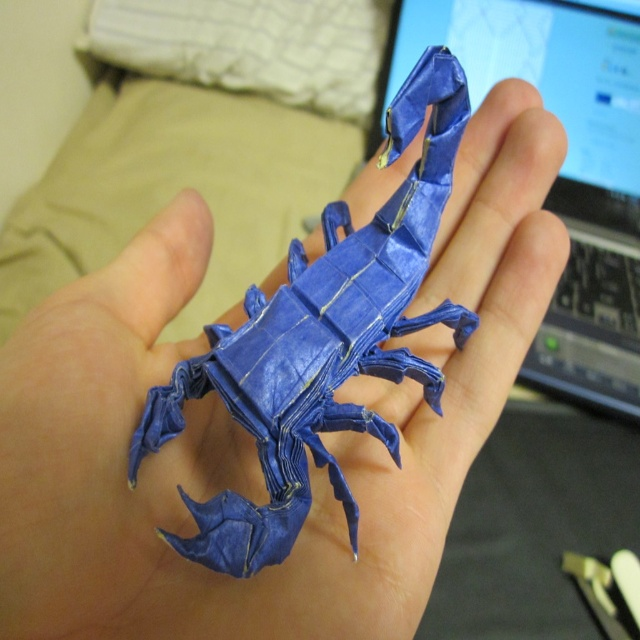Scorpion: (126, 45, 478, 580)
